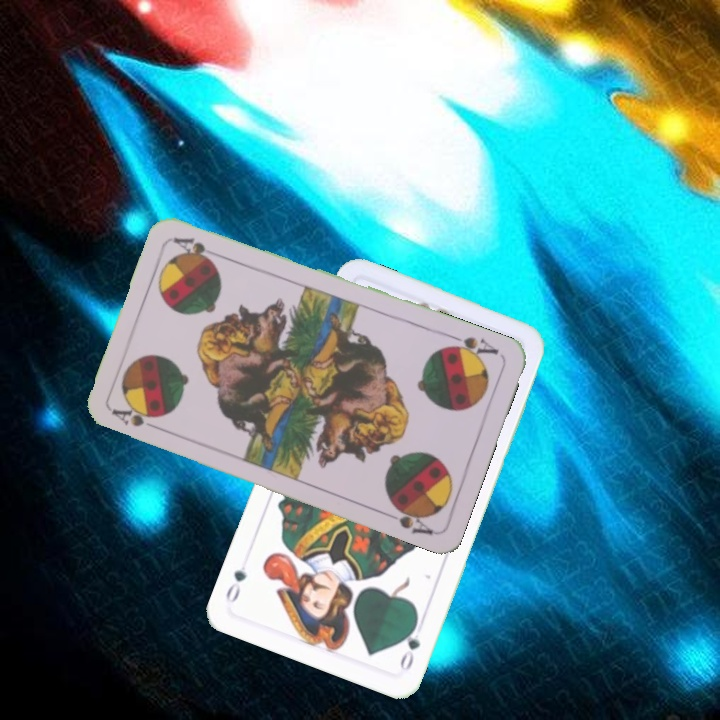GO: (396, 616, 423, 673)
SA: (442, 330, 502, 364), (108, 404, 166, 434)
